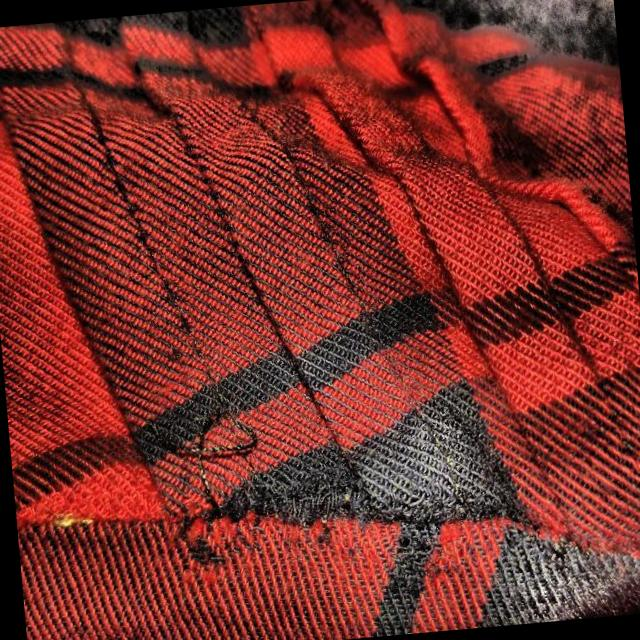gray stitch: (166, 394, 400, 572)
